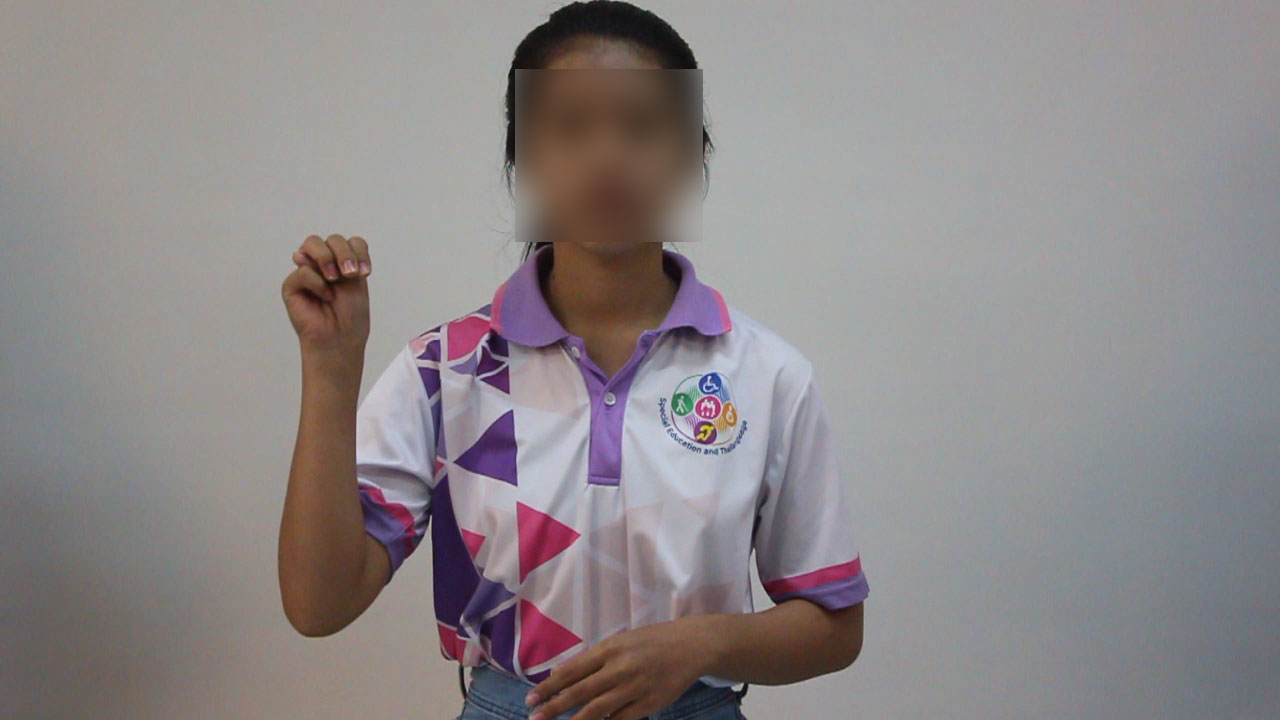mor: (253, 213, 390, 376)
